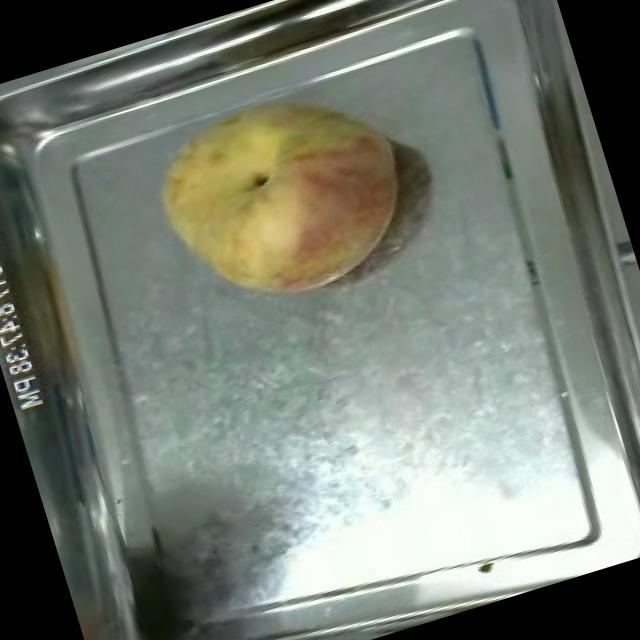Fruit: (126, 52, 434, 334)
